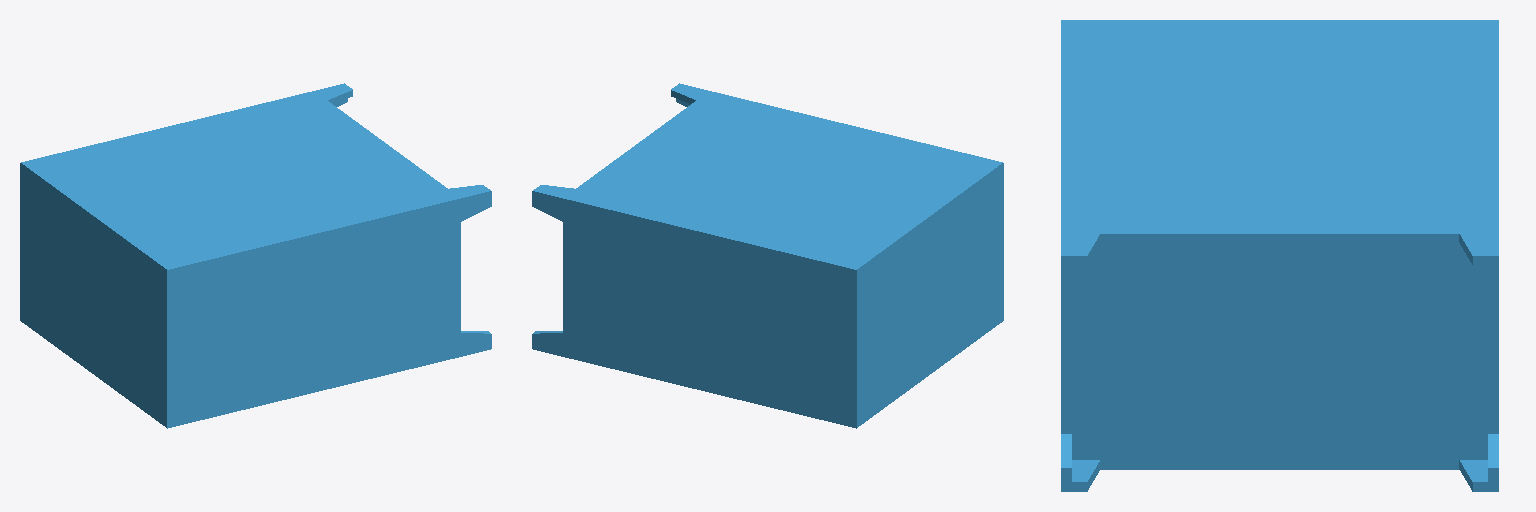
robot.urdf — right-pull-door:
<?xml version="1.0" ?>
<robot name="right-pull-door">
	<link name="base"/>
	<link name="link_0">
		<visual name="out-frame">
			<origin xyz="0 0 0"/>
			<geometry>
				<mesh filename="texture_dae/frame.dae" scale="0.7 0.7 0.7"/>
			</geometry>
		</visual>
		<collision>
			<origin xyz="0 0 0"/>
			<geometry>
				<mesh filename="texture_dae/frame.dae" scale="0.7 0.7 0.7"/>
			</geometry>
		</collision>
	</link>
	<joint name="joint_0" type="fixed">
		<origin rpy="1.570796326794897 0 -1.570796326794897" xyz="0 0 0"/>
		<child link="link_0"/>
		<parent link="base"/>
	</joint>
	<link name="link_1">
		<visual name="surf-board">
			<origin xyz="0.1717696198688759 0 0"/>
			<geometry>
				<mesh filename="texture_dae/board.dae" scale="0.7 0.7 0.7"/>
			</geometry>
		</visual>
		<collision>
			<origin xyz="0.1717696198688759 0 0"/>
			<geometry>
				<mesh filename="texture_dae/board.dae" scale="0.7 0.7 0.7"/>
			</geometry>
		</collision>
	</link>
	<joint name="joint_1" type="revolute">
		<origin xyz="-0.1717696198688759 0 0"/>
		<axis xyz="0 -1 0"/>
		<child link="link_1"/>
		<parent link="link_0"/>
		<limit lower="0" upper="1.5079644737231006"/>
	</joint>
	<link name="link_2">
		<visual name="handle">
			<origin xyz="0 0 0"/>
			<geometry>
				<mesh filename="texture_dae/9961230.dae" scale="0.7 0.7 0.7"/>
			</geometry>
		</visual>
		<collision>
			<origin xyz="0 0 0"/>
			<geometry>
				<mesh filename="texture_dae/9961230.dae" scale="0.7 0.7 0.7"/>
			</geometry>
		</collision>
	</link>
	<joint name="joint_2" type="revolute">
		<origin xyz="0.1717696198688759 0 0.06689262461118121"/>
		<child link="link_2"/>
		<parent link="link_1"/>
		<axis xyz="0 0 1"/>
		<limit lower="0" upper="1.5079644737231006"/>
	</joint>
</robot>

--- What the picture shows (computed from the rendered views, not written in the file) ---
3 views of the same robot in one strip: view 1: azimuth 30°, elevation 25°; view 2: azimuth 150°, elevation 25°; view 3: azimuth 270°, elevation 25° (orthographic).
Robot: right-pull-door — 4 links, 3 joints (2 revolute, 1 fixed); root link base; default pose: all joints at 0.
Visible links, largest first — view 1: link_0; view 2: link_0; view 3: link_0.
Link boxes in pixels (<box>): link_0: <box>20,83,491,428</box>; link_0: <box>532,83,1003,428</box>; link_0: <box>1061,20,1498,491</box>.
Bounding box of the posed robot: 0.7372 × 0.5787 × 0.3916 m (x, y, z).
Meshes: 3 distinct files referenced, 3 mesh visuals loaded (3 Collada DAE).
